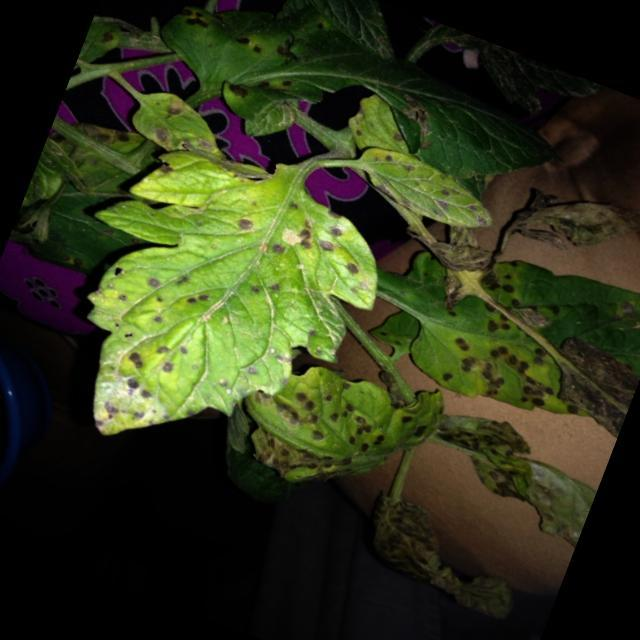Tomato Septoria spot leaf: (20, 112, 402, 516), (112, 0, 572, 227), (207, 322, 468, 532), (439, 232, 640, 446), (388, 272, 600, 435), (408, 396, 609, 554), (331, 134, 536, 263), (102, 77, 240, 176)
